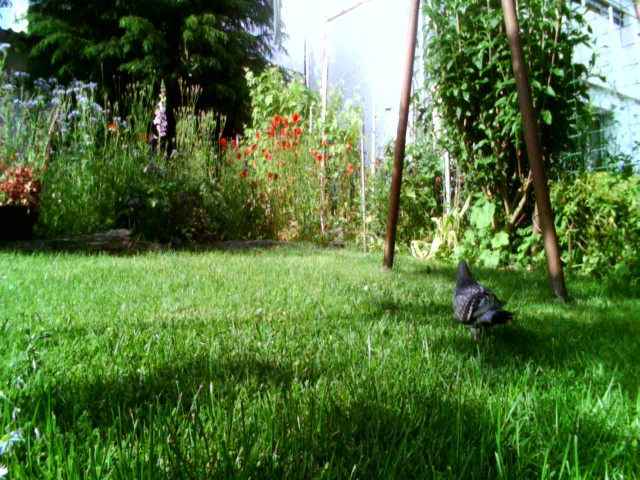Pigeon: (440, 251, 514, 353)
